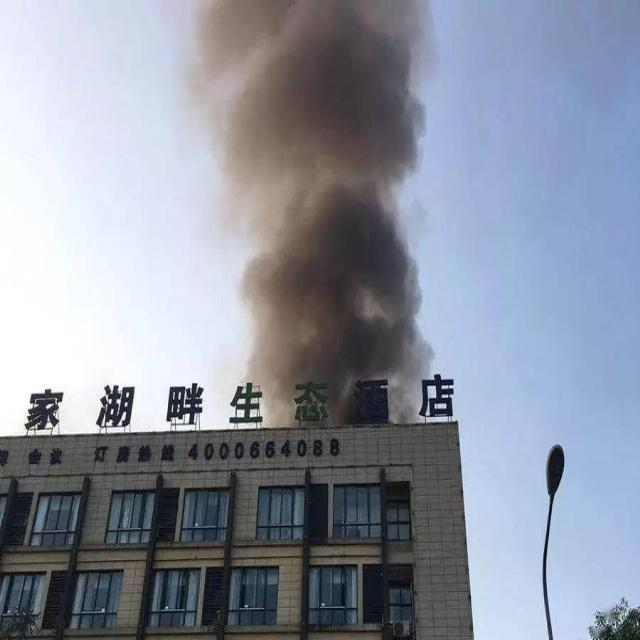Smoke: (180, 1, 434, 366)
